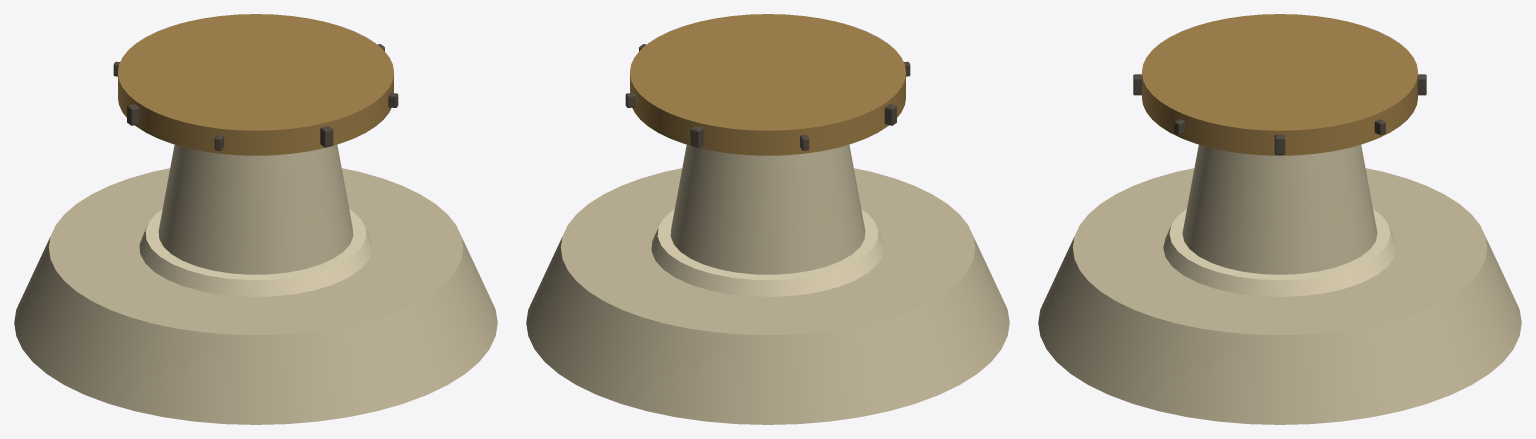
File: mirror-pedestal-v01.glb
3 views of the same model, side by side, from view 1: azimuth 30°, elevation 25°; view 2: azimuth 150°, elevation 25°; view 3: azimuth 270°, elevation 25° (orthographic).
Visible parts, largest first — view 1: Shadow sandstone 0, Shadow brass 2, Shadow sandstone light 1, Shadow bronze dark 3; view 2: Shadow sandstone 0, Shadow brass 2, Shadow sandstone light 1, Shadow bronze dark 3; view 3: Shadow sandstone 0, Shadow brass 2, Shadow sandstone light 1, Shadow bronze dark 3.
Part boxes in pixels (bbox=[...]): Shadow sandstone 0: bbox=[14, 144, 497, 424]; Shadow brass 2: bbox=[118, 14, 393, 155]; Shadow sandstone light 1: bbox=[139, 209, 372, 296]; Shadow bronze dark 3: bbox=[113, 23, 398, 150]; Shadow sandstone 0: bbox=[526, 144, 1009, 424]; Shadow brass 2: bbox=[630, 14, 905, 155]; Shadow sandstone light 1: bbox=[651, 209, 884, 296]; Shadow bronze dark 3: bbox=[625, 23, 910, 150]; Shadow sandstone 0: bbox=[1038, 144, 1521, 424]; Shadow brass 2: bbox=[1142, 14, 1417, 155]; Shadow sandstone light 1: bbox=[1163, 209, 1396, 296]; Shadow bronze dark 3: bbox=[1133, 74, 1426, 155].
Size of the model in its own units: 1.4 by 0.8 by 1.4.
